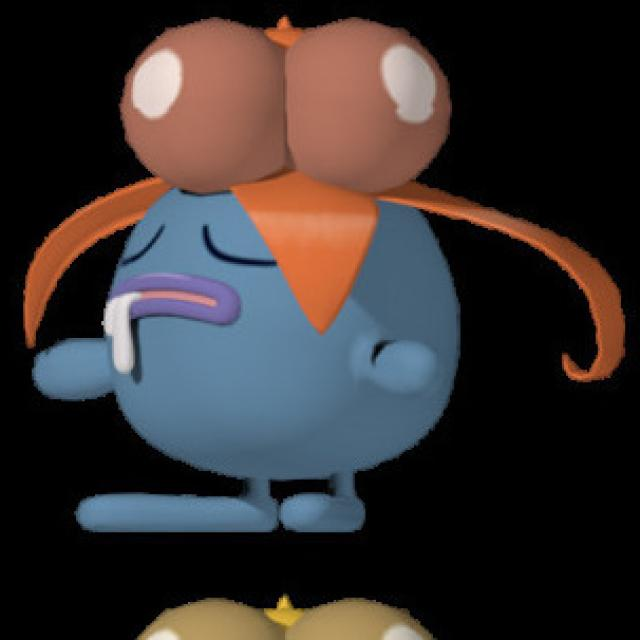Gloom: (60, 14, 469, 540)
